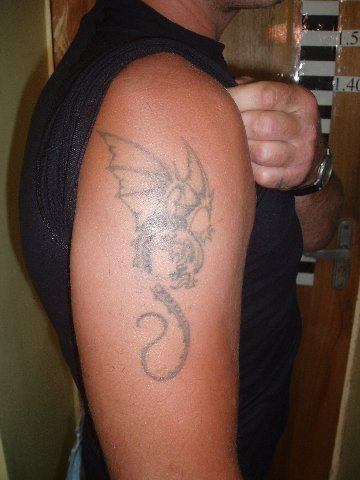tatu6_drakon: (81, 104, 229, 396)
